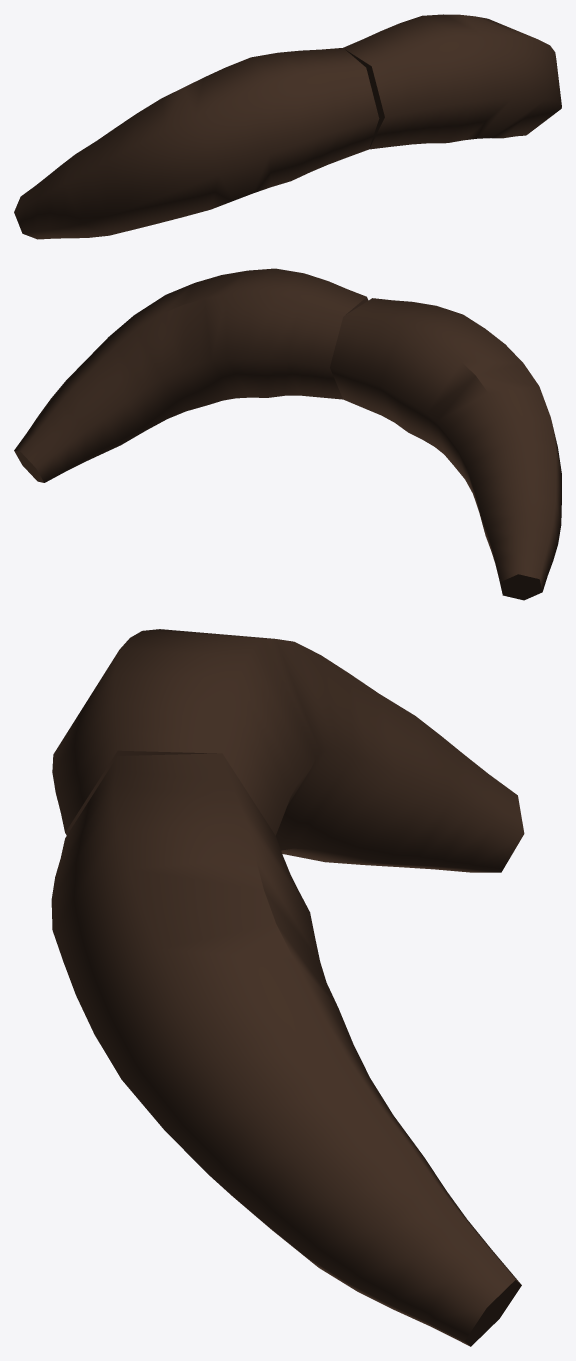
File: Char_Face_Mustache.fbx
The picture shows the model from 3 angles, top to bottom: view 1: azimuth 30°, elevation 25°; view 2: azimuth 150°, elevation 25°; view 3: azimuth 270°, elevation 25°; orthographic projection. The views are drawn at different scales.
Parts seen in each view (by area): view 1: Mustache; view 2: Mustache; view 3: Mustache.
Boxes of the visible parts, box(x1,y1,x2,y2) form: Mustache: box(14, 14, 561, 239); Mustache: box(14, 268, 561, 600); Mustache: box(51, 629, 524, 1346).
Size of the model in its own units: 57.7 by 19.49 by 22.51.
